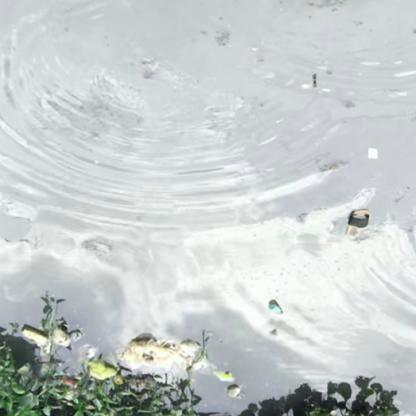Plastic: (266, 298, 286, 320), (58, 374, 78, 388)
Trash: (123, 334, 200, 374), (27, 326, 80, 352), (344, 209, 372, 243), (84, 360, 118, 380), (210, 367, 237, 386), (365, 146, 380, 164)
